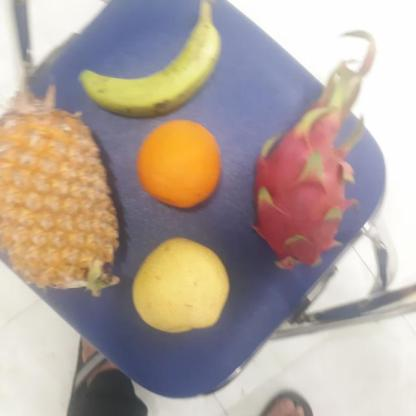banana: (80, 9, 214, 121)
orange: (135, 119, 226, 208)
pear: (129, 238, 234, 336)
pitaya: (247, 96, 382, 267)
